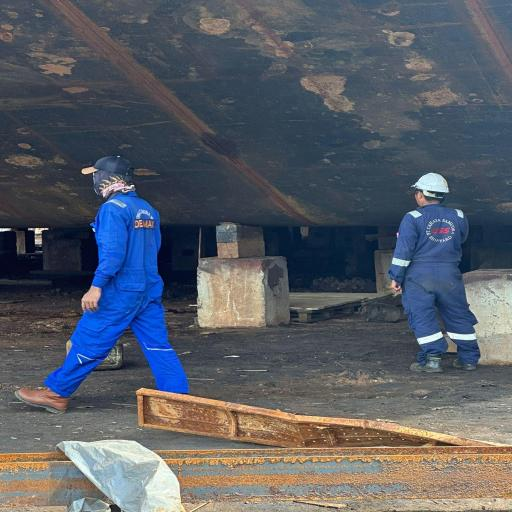safety_shoe: (12, 385, 69, 415), (409, 354, 446, 373), (452, 358, 478, 374)
